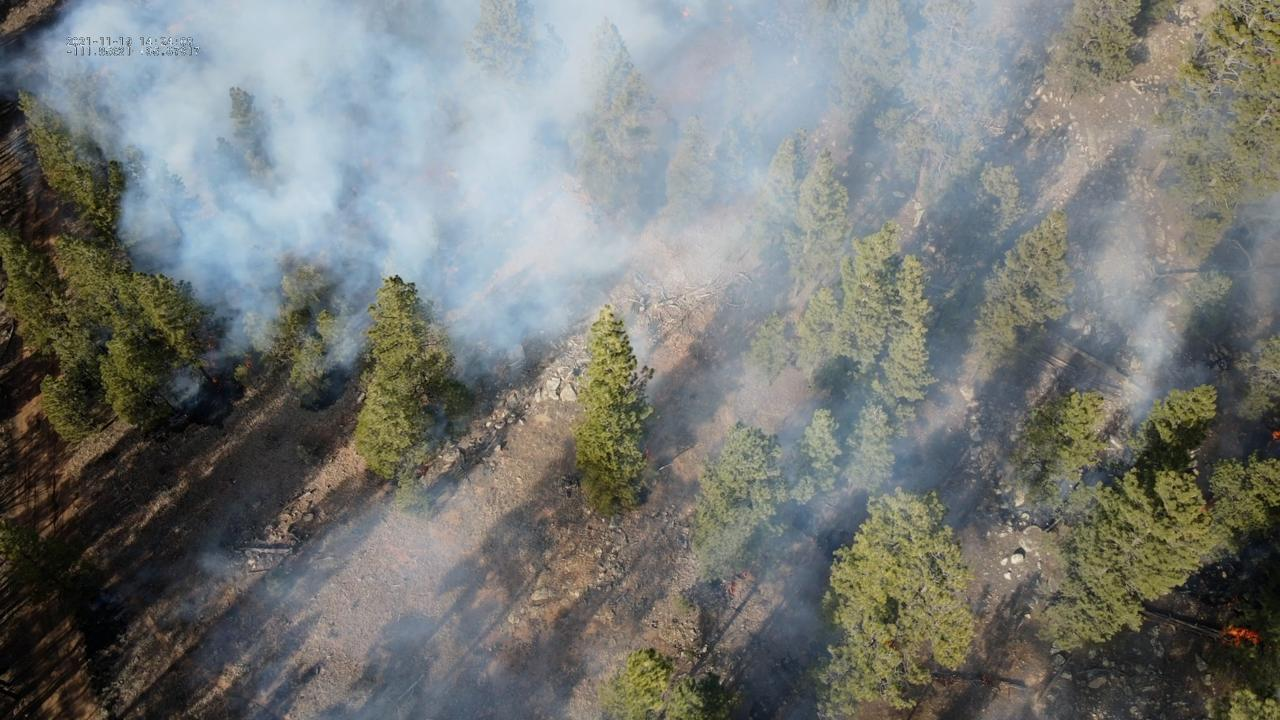fire: (1213, 625, 1264, 651), (1268, 428, 1280, 443), (242, 358, 253, 370), (212, 376, 219, 383)
smoke: (0, 0, 1280, 620), (166, 482, 613, 719)
